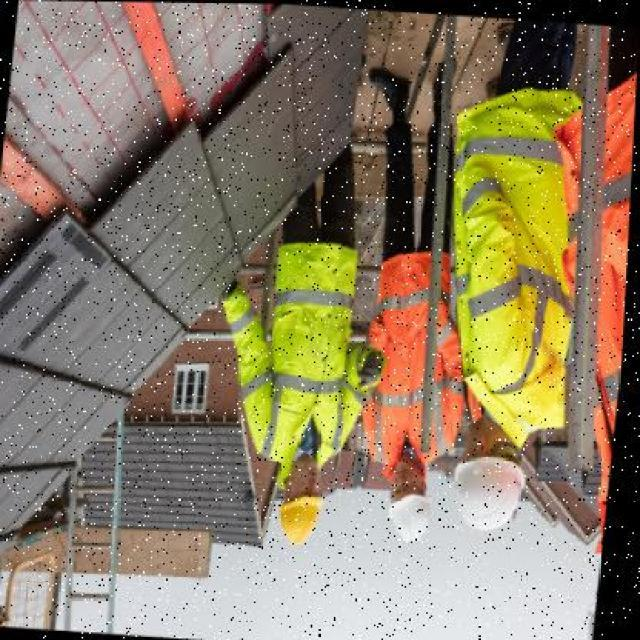helmet: (446, 443, 532, 525), (274, 476, 330, 543), (385, 483, 443, 539)
vest: (442, 75, 596, 417), (250, 232, 370, 462), (365, 245, 477, 457)
